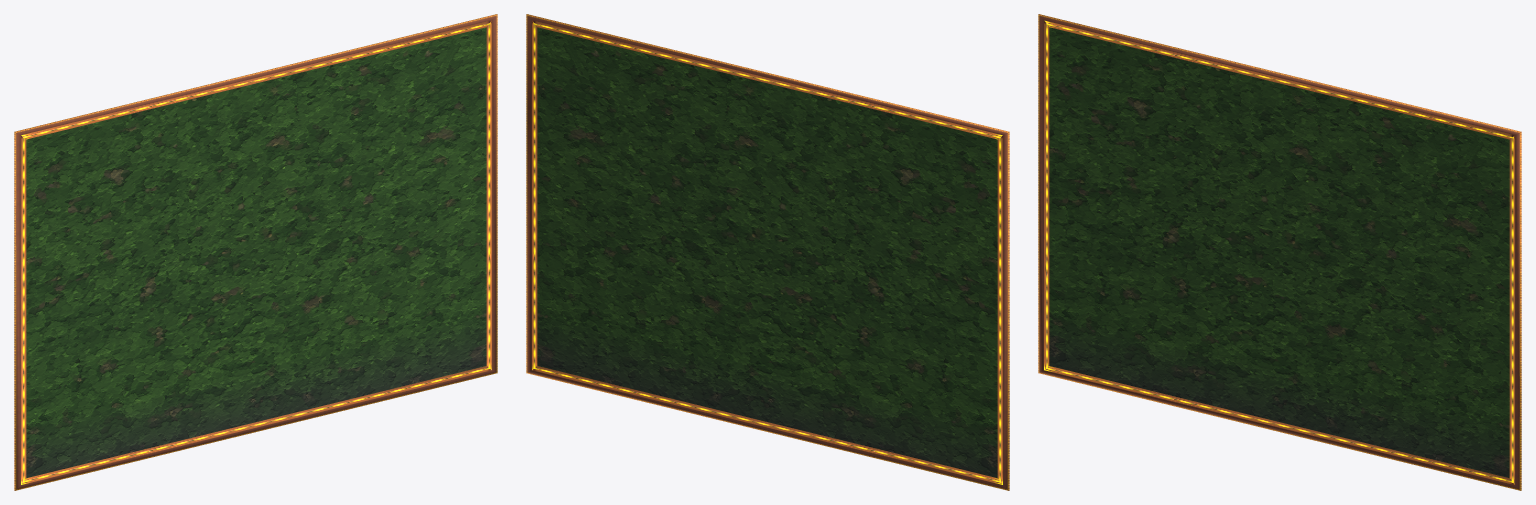
File: Panel_Art.fbx
3 views of the same model, side by side, from view 1: azimuth 30°, elevation 25°; view 2: azimuth 150°, elevation 25°; view 3: azimuth 330°, elevation 25° (orthographic).
Visible parts, largest first — view 1: Panel_Art; view 2: Panel_Art; view 3: Panel_Art.
Boxes of the visible parts, <box> form: Panel_Art: <box>14,14,497,490</box>; Panel_Art: <box>526,14,1009,490</box>; Panel_Art: <box>1038,14,1521,490</box>.
Size of the model in its own units: 8.26 by 5.86 by 0.0217.
